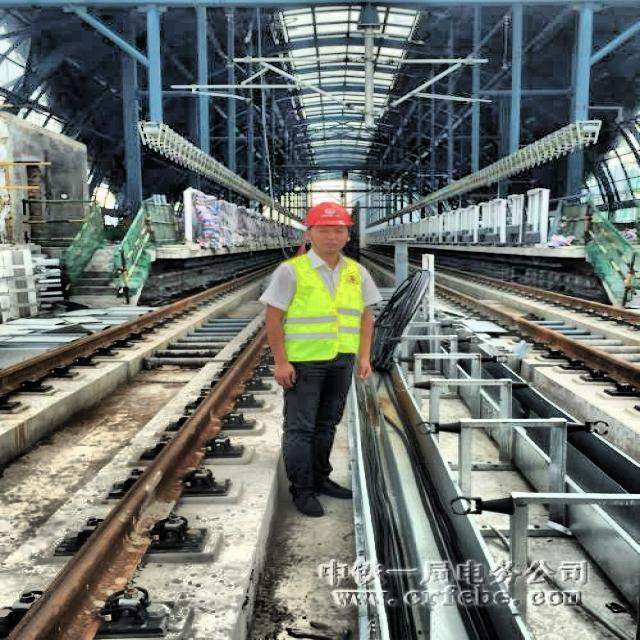helmet: (301, 194, 356, 258)
